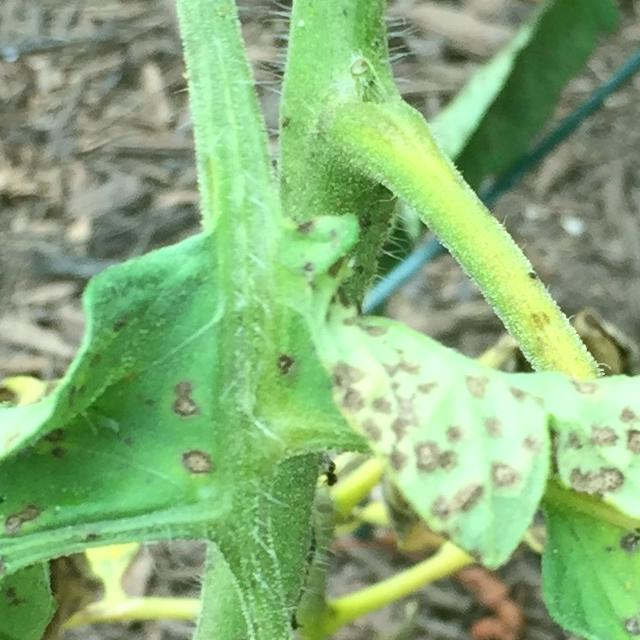Tomato Septoria leaf spot: (219, 267, 640, 640), (0, 209, 261, 640), (257, 0, 640, 31), (0, 0, 5, 155)
